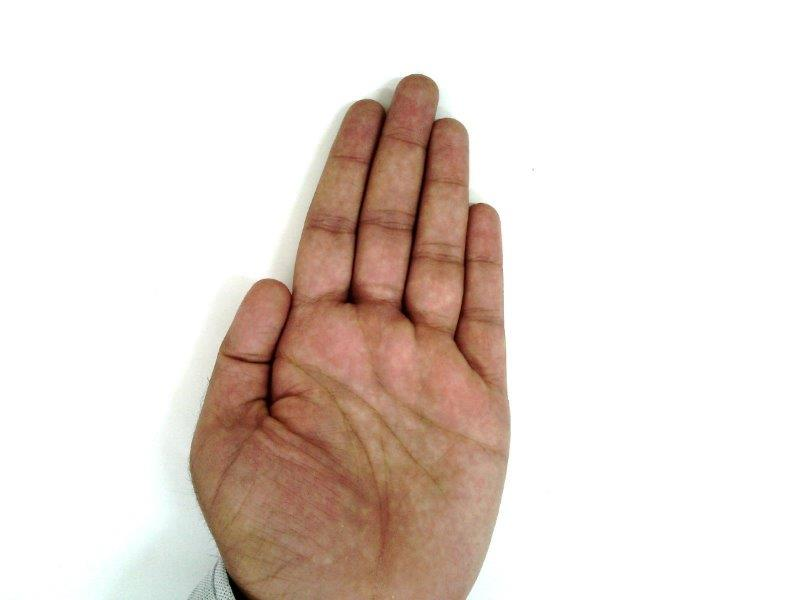hand: (191, 74, 511, 591)
